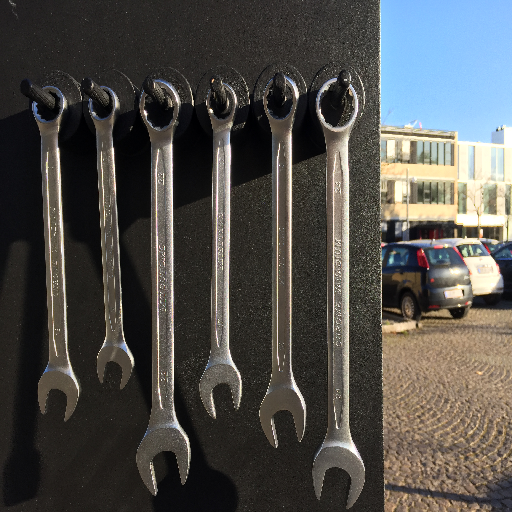bottom: (134, 423, 191, 497), (311, 439, 366, 510), (257, 386, 308, 450), (197, 359, 244, 419), (35, 361, 81, 422), (95, 338, 136, 390)
top: (314, 76, 360, 136), (138, 78, 182, 134), (262, 73, 302, 125), (29, 85, 71, 128), (203, 79, 239, 128), (86, 83, 122, 126)
